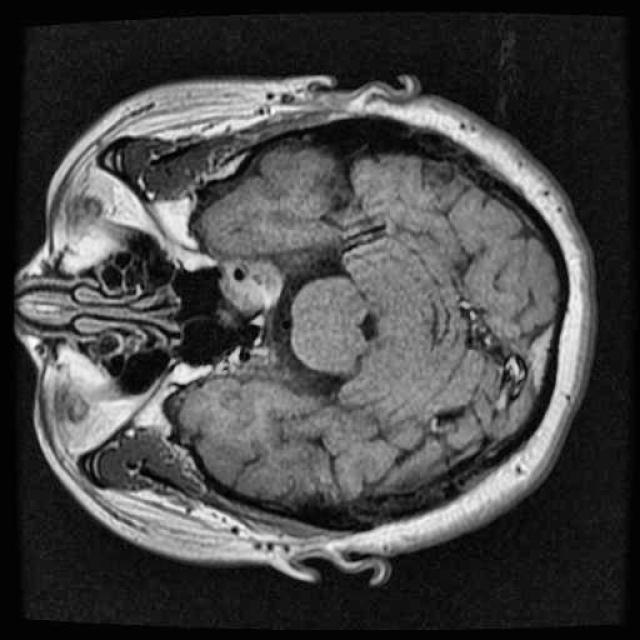Tumor: (206, 245, 298, 329)
